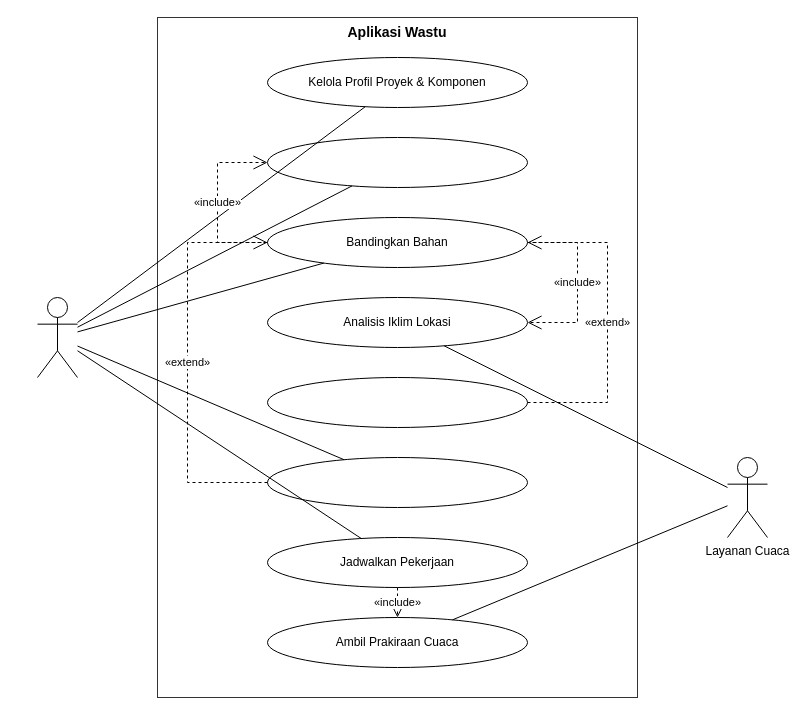
This 807x715 diagram has some shape labels left out. The shapes that lost their labels are listed below. From the top down, each one's centre as x and y in pixels, then its label:
point 397,162: Telusuri Katalog Bahan
point 57,337: Pemilik Rumah
point 397,402: Simulasi Emisi Jangka Panjang
point 397,482: Ekspor Laporan Rekomendasi
